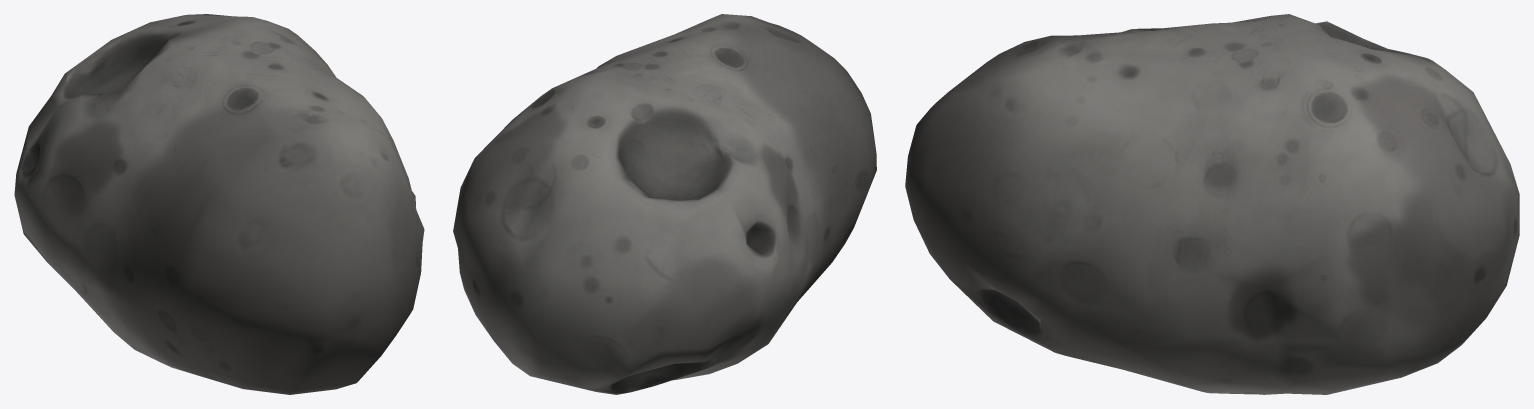
File: Asteroid.dae
3 renders of one model, left to right at view 1: azimuth 30°, elevation 25°; view 2: azimuth 150°, elevation 25°; view 3: azimuth 270°, elevation 25°, orthographic. The views are drawn at different scales.
Parts seen in each view (by area): view 1: Asteroid_LowDeci_Group7715; view 2: Asteroid_LowDeci_Group7715; view 3: Asteroid_LowDeci_Group7715.
Part boxes in pixels (box(x1,y1,x2,y2)): Asteroid_LowDeci_Group7715: box(14, 14, 424, 394); Asteroid_LowDeci_Group7715: box(453, 14, 876, 394); Asteroid_LowDeci_Group7715: box(905, 14, 1519, 394).
Size of the model in its own units: 1.62 by 1.53 by 2.45.
